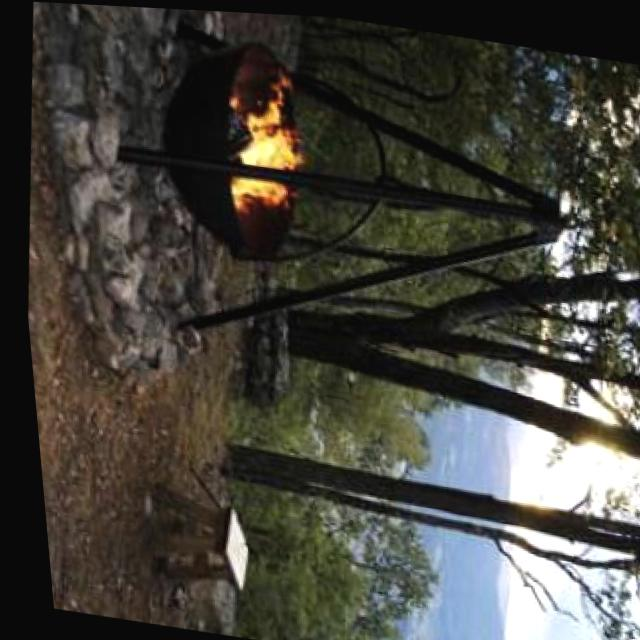helmet: (202, 87, 325, 222)
